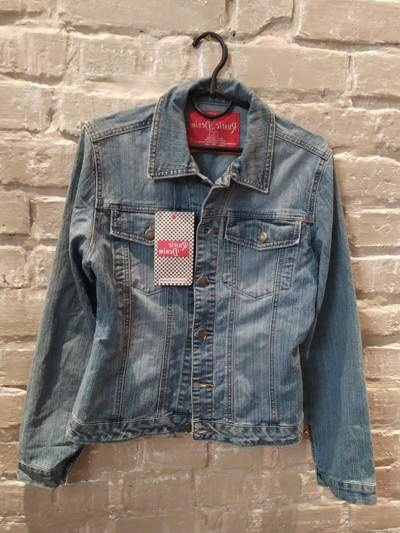Blazer: (10, 78, 366, 499)
